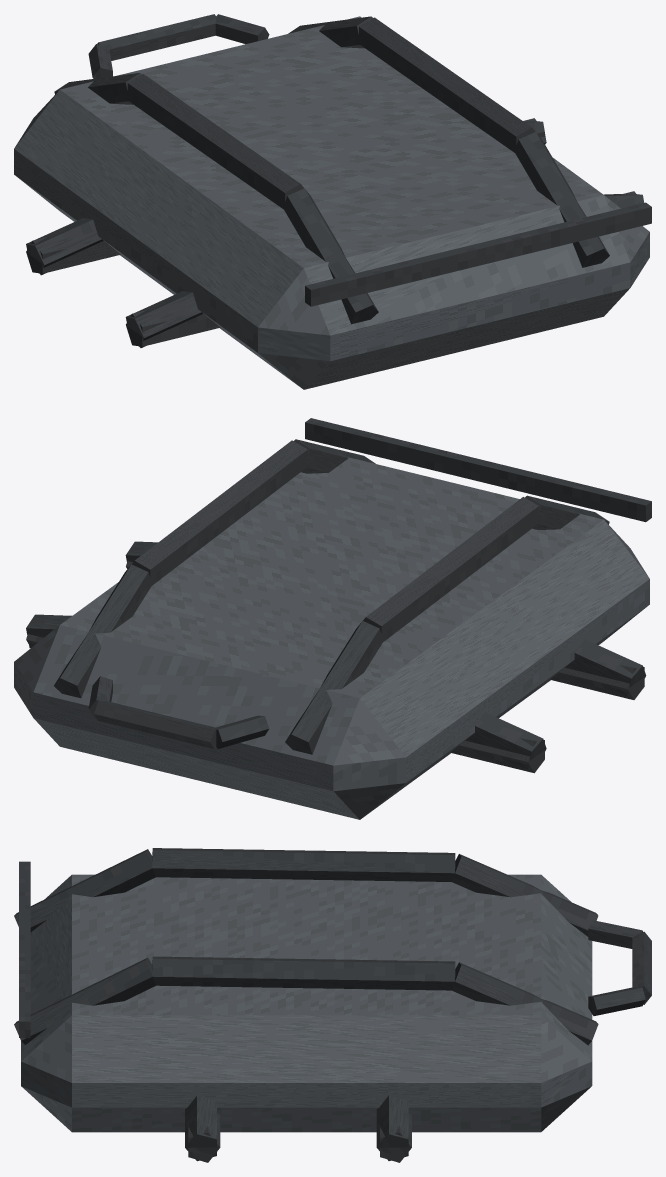
File: legpouch_large.glb
3 views of the same model, one above another, from view 1: azimuth 30°, elevation 25°; view 2: azimuth 150°, elevation 25°; view 3: azimuth 270°, elevation 25° (orthographic). The views are drawn at different scales.
Parts seen in each view (by area): view 1: block_bag shell, block_webbing strap 1 (×2), block_zipper, block_webbing strap 2 (×2), block_adjustable thigh strap 0 (×2), block_adjustable thigh strap 1 (×2), block_carry handle 1, block_webbing strap 0 (×2), block_carry handle 2, block_carry handle 0; view 2: block_bag shell, block_webbing strap 1 (×2), block_zipper, block_webbing strap 0 (×2), block_adjustable thigh strap 0 (×2), block_adjustable thigh strap 1 (×2), block_carry handle 1, block_webbing strap 2 (×2), block_carry handle 0, block_adjustable thigh strap 2, block_carry handle 2; view 3: block_bag shell, block_webbing strap 1 (×2), block_webbing strap 0 (×2), block_webbing strap 2 (×2), block_adjustable thigh strap 2 (×2), block_zipper, block_adjustable thigh strap 1 (×2), block_carry handle 2, block_carry handle 1, block_carry handle 0.
Part boxes in pixels (left/top/right/bottom): block_bag shell: left=14, top=16, right=649, bottom=389; block_webbing strap 1 (×2): left=127, top=17, right=535, bottom=210; block_zipper: left=305, top=202, right=651, bottom=306; block_webbing strap 2 (×2): left=284, top=132, right=609, bottom=324; block_adjustable thigh strap 0 (×2): left=26, top=218, right=203, bottom=347; block_adjustable thigh strap 1 (×2): left=26, top=118, right=642, bottom=346; block_carry handle 1: left=97, top=14, right=215, bottom=60; block_webbing strap 0 (×2): left=54, top=16, right=372, bottom=104; block_carry handle 2: left=215, top=14, right=269, bottom=44; block_carry handle 0: left=88, top=44, right=112, bottom=78; block_bag shell: left=14, top=457, right=649, bottom=819; block_webbing strap 1 (×2): left=131, top=440, right=538, bottom=642; block_zipper: left=305, top=418, right=651, bottom=522; block_webbing strap 0 (×2): left=54, top=564, right=382, bottom=754; block_adjustable thigh strap 0 (×2): left=465, top=639, right=646, bottom=769; block_adjustable thigh strap 1 (×2): left=26, top=545, right=644, bottom=773; block_carry handle 1: left=94, top=701, right=216, bottom=748; block_webbing strap 2 (×2): left=294, top=439, right=609, bottom=529; block_carry handle 0: left=216, top=715, right=269, bottom=748; block_adjustable thigh strap 2: left=26, top=614, right=71, bottom=648; block_carry handle 2: left=88, top=676, right=112, bottom=719; block_bag shell: left=21, top=874, right=592, bottom=1132; block_webbing strap 1 (×2): left=152, top=848, right=455, bottom=990; block_webbing strap 0 (×2): left=451, top=854, right=598, bottom=1045; block_webbing strap 2 (×2): left=14, top=849, right=155, bottom=1044; block_adjustable thigh strap 2 (×2): left=185, top=1095, right=408, bottom=1161; block_zipper: left=19, top=861, right=30, bottom=1037; block_adjustable thigh strap 1 (×2): left=188, top=1113, right=411, bottom=1162; block_carry handle 2: left=588, top=987, right=645, bottom=1015; block_carry handle 1: left=632, top=931, right=651, bottom=1004; block_carry handle 0: left=588, top=920, right=642, bottom=948.
Size of the model in its own units: 0.1131 by 0.0353 by 0.1279.
Materials: 1 (1 with a texture image).
